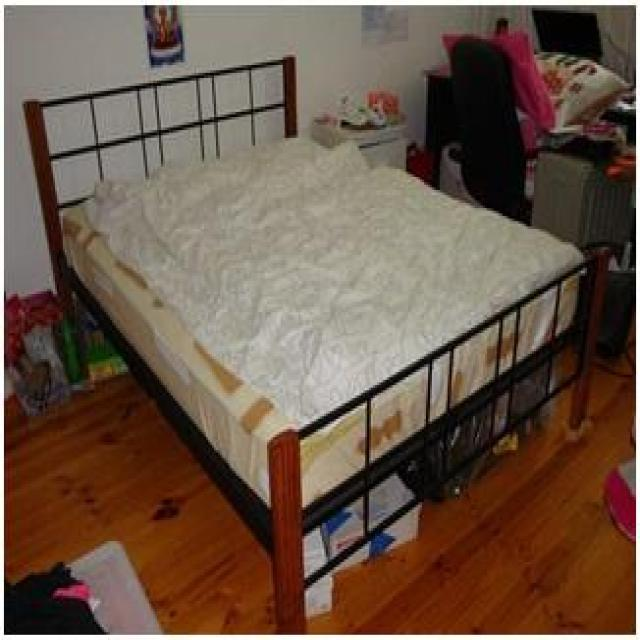bed: (23, 52, 611, 631)
